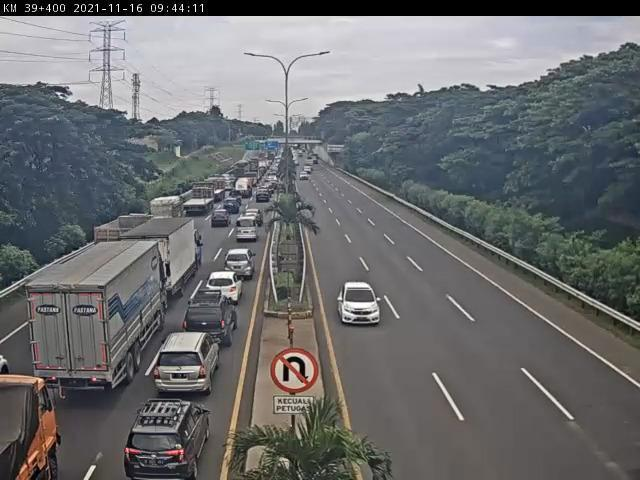car: (126, 396, 204, 480), (157, 329, 226, 398), (182, 296, 244, 351), (333, 276, 386, 332), (196, 266, 254, 316), (220, 248, 259, 279)
truck: (26, 237, 173, 382), (1, 361, 87, 480), (125, 218, 203, 297), (94, 212, 157, 264), (152, 195, 187, 235), (184, 183, 218, 215), (209, 179, 230, 204)
